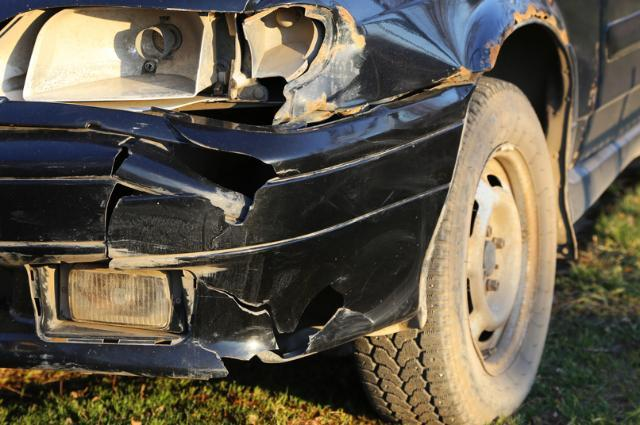Bumper: (4, 103, 437, 374)
Fender: (311, 0, 516, 96)
Light: (0, 1, 303, 116)
